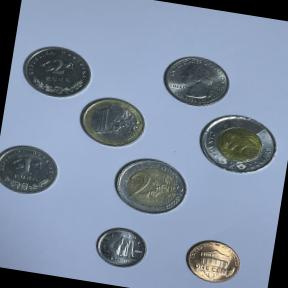coin: (192, 108, 284, 182), (106, 151, 194, 222), (14, 38, 96, 103), (156, 49, 234, 113), (75, 92, 151, 152), (176, 232, 247, 288), (86, 220, 153, 274)
